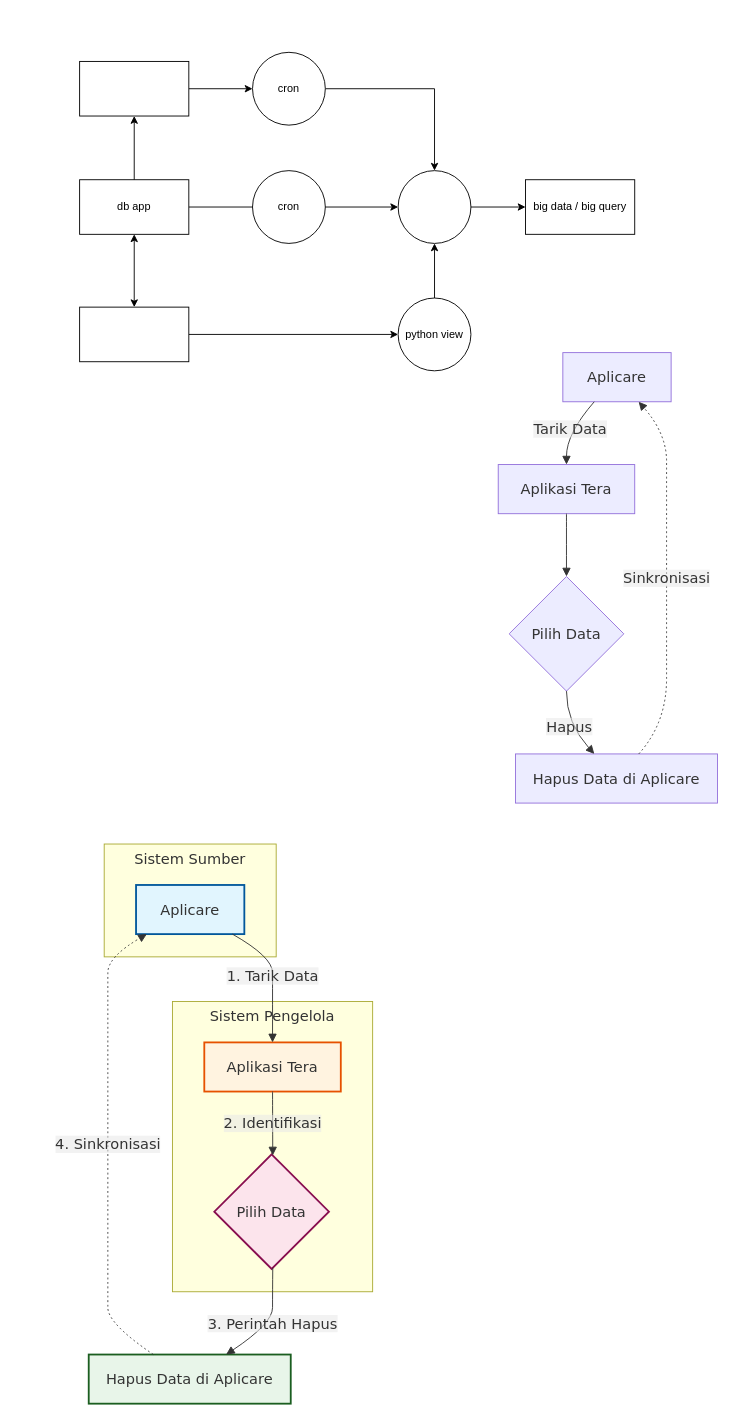
This 733x1420 diagram has some shape labels left out. The shapes that lost their labels are listed below. From the top down, each one's centre as x and y in pixels, then its label:
At pixel 134 88: "db stream".
At pixel 434 206: "airflow".
At pixel 134 334: "koding".
